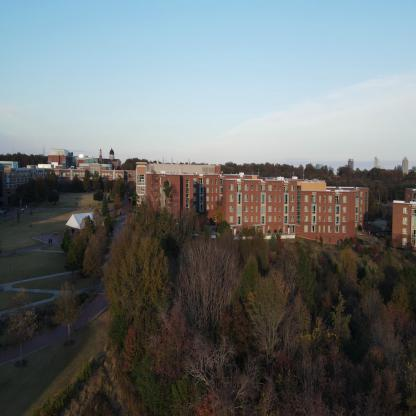Wolf Ridge: (135, 158, 372, 255), (386, 174, 415, 266)
